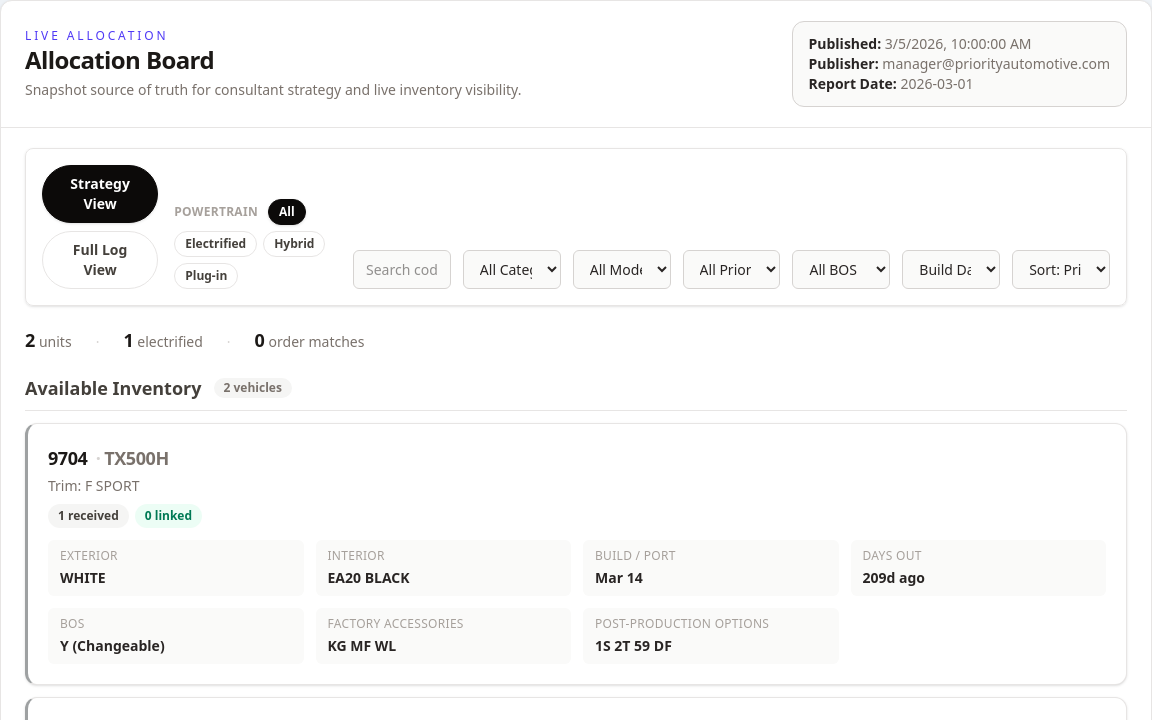
Test: AllocationBoard › shows 4-digit code separately from model in strategy and full log views
This screenshot has width=1152, height=720.
Expected: the text "9704" is shown, x1=48 y1=446 x2=87 y2=470
Expected: the text "TX500H" is shown, x1=104 y1=446 x2=169 y2=470
Click the tab "Full Log View": (100, 260) x1=42 y1=231 x2=158 y2=289
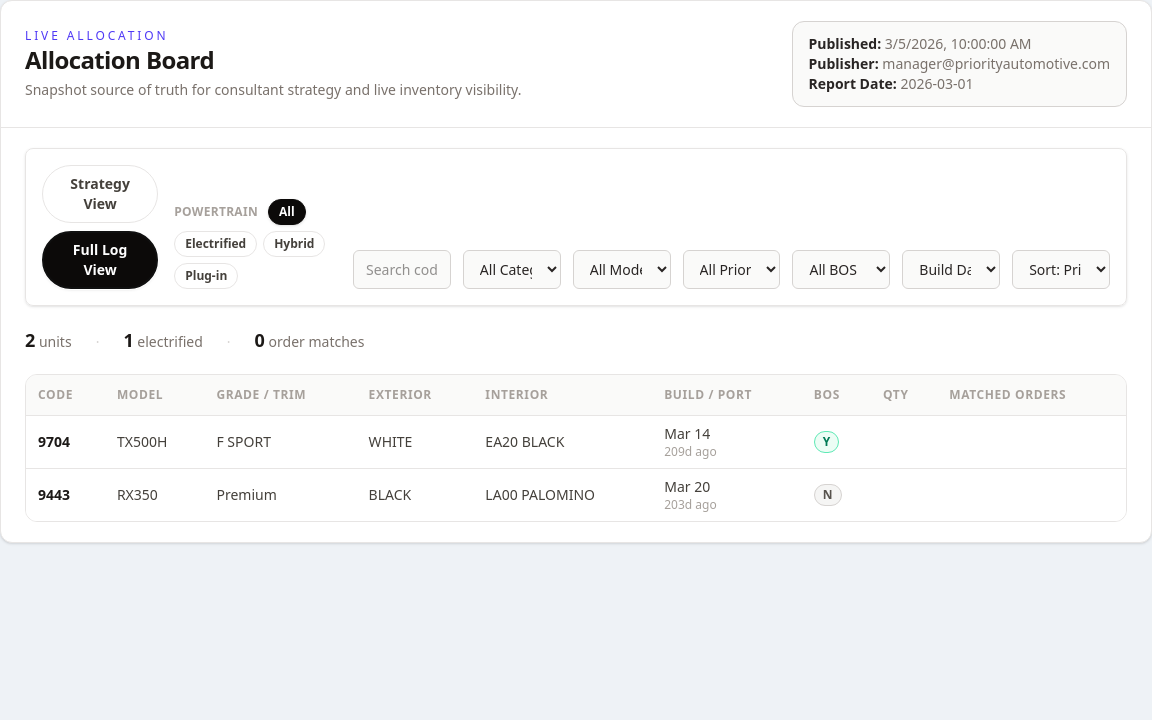
Expected: the text "9704" is shown, x1=26 y1=416 x2=105 y2=468
Expected: the table with test id "allocation-log-view" is shown, x1=26 y1=375 x2=1126 y2=521
